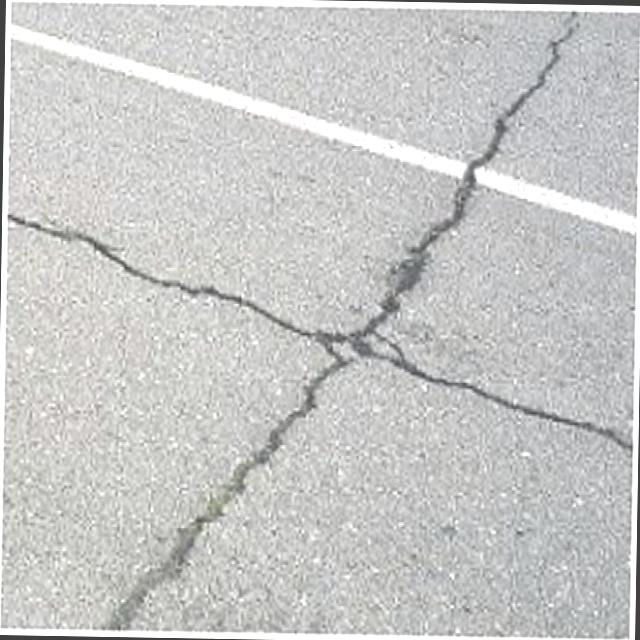crack: (375, 8, 579, 330), (104, 362, 338, 632), (5, 210, 378, 370), (374, 332, 632, 460)
